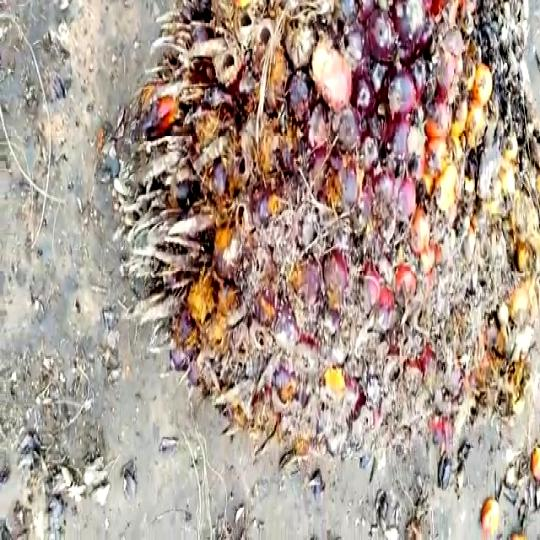masak: (140, 0, 540, 466)
